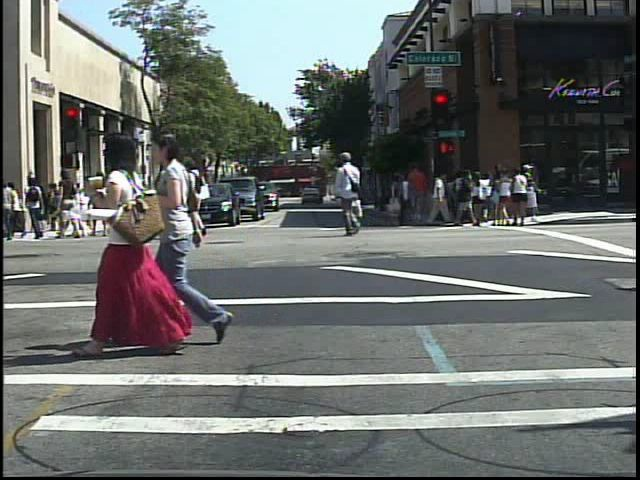person: (76, 127, 194, 360), (147, 126, 243, 344), (333, 148, 370, 242), (155, 154, 190, 242), (512, 163, 552, 230), (185, 155, 214, 245), (90, 168, 118, 242), (56, 166, 83, 241), (24, 175, 48, 244), (469, 171, 492, 232), (0, 172, 18, 246)
